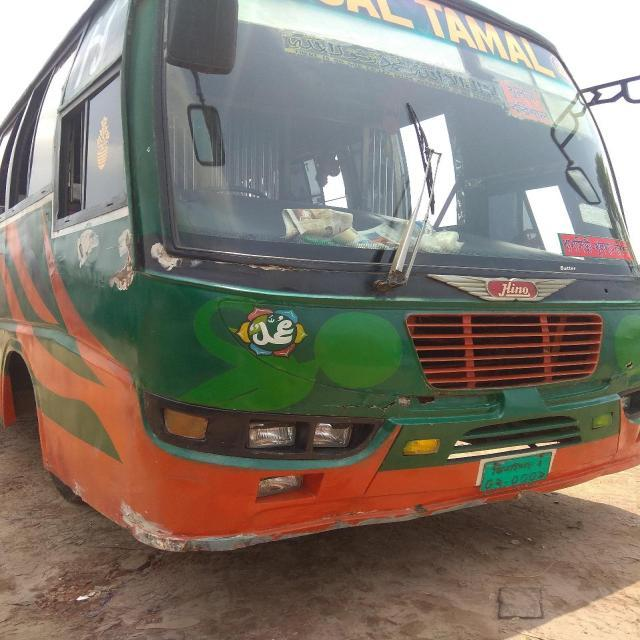numberplate: (476, 449, 554, 493)
